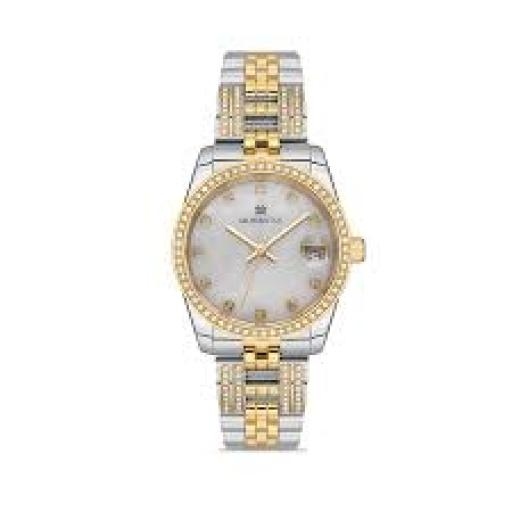KolSaati: (170, 28, 372, 471)
